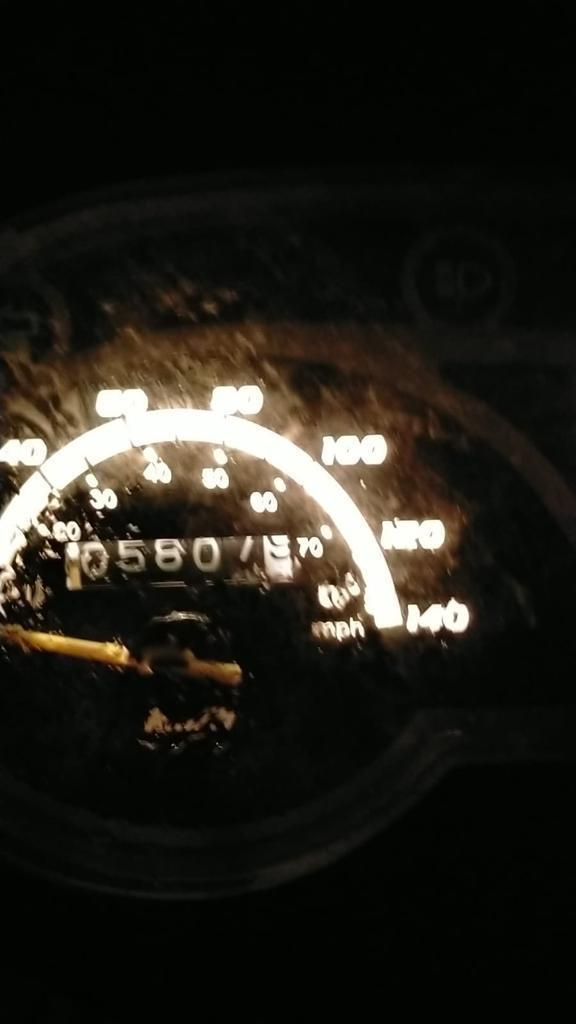0: (187, 535, 221, 580), (80, 538, 109, 583)
5: (115, 536, 148, 576)
7: (226, 533, 259, 570)
8: (152, 535, 185, 574)
9: (265, 533, 293, 568)
odometer: (63, 533, 297, 588)
